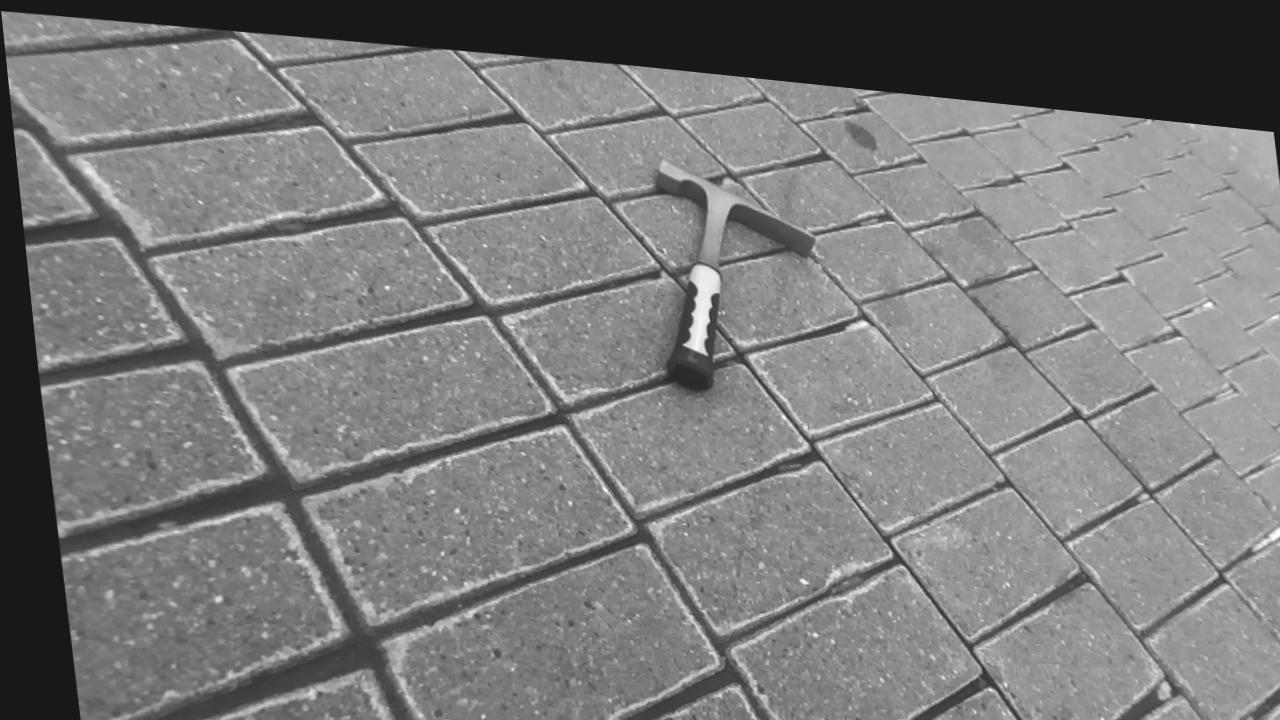pick: (656, 161, 815, 390)
